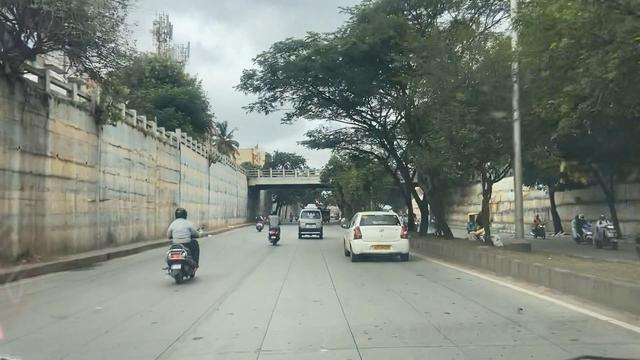LMV: (339, 206, 416, 265), (166, 206, 202, 282)
